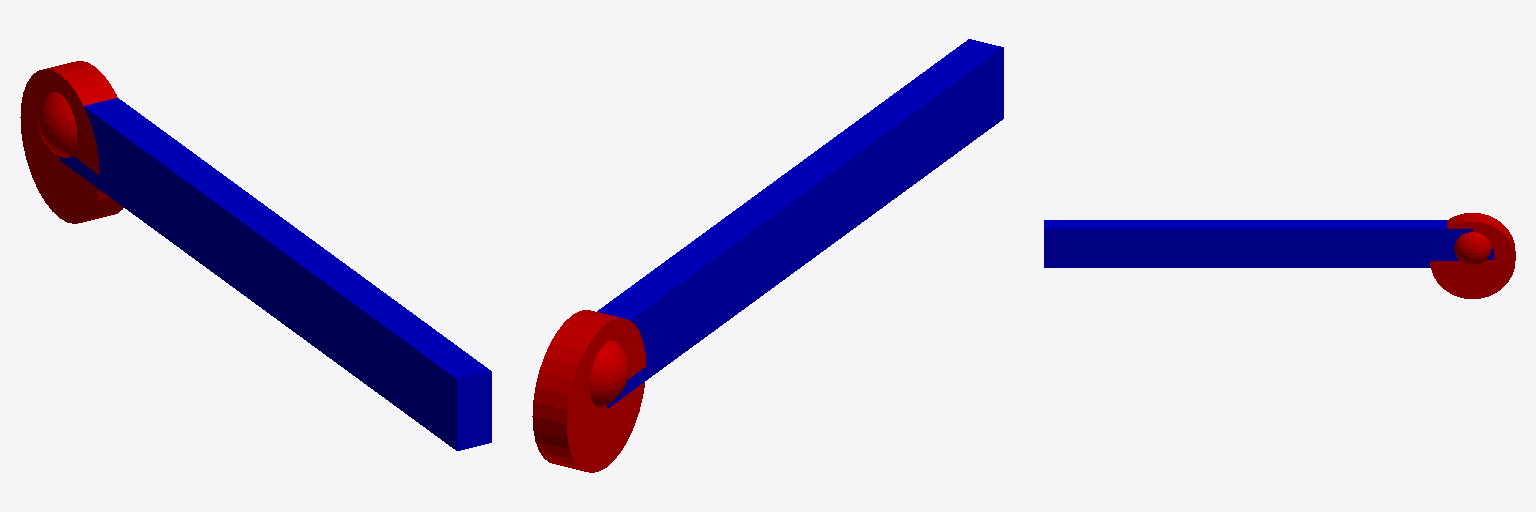
URDF robot description (TwoLinkStruct6784629794):
<?xml version="1.0"?>
<robot  name="TwoLinkStruct6784629794" >
 <material  name="blue" >
  <color  rgba="0 0 0.8 1.0" />
 </material>
 <material  name="red" >
  <color  rgba="0.8 0 0 1.0" />
 </material>
 <link  name="base_link" >
  <visual >
   <origin  rpy="0 1.5707 0"  xyz="0 0 0" />
   <material  name="red" />
   <geometry >
    <cylinder  length="0.05"  radius="0.1" />
   </geometry>
  </visual>
 </link>
 <joint  type="revolute"  name="joint1" >
  <parent  link="base_link" />
  <child  link="link1" />
  <origin  xyz="0 0 0"  rpy="0 0 0" />
  <axis  xyz="1 0 0" />
 </joint>
 <link  name="link1" >
  <inertial >
   <origin  rpy="0 0 0"  xyz="0 0 0.015086658787629968" />
   <mass  value="0.10955919508594006" />
   <inertia  ixy="0.0"  iyy="4.564966461914169e-05"  izz="3.113698886510477e-05"  ixz="0.0"  ixx="3.113698886510477e-05"  iyz="0.0" />
  </inertial>
  <visual >
   <origin  rpy="0 0 0"  xyz="0 0 0.015086658787629968" />
   <material  name="blue" />
   <geometry >
    <box  size="0.05 0.1 0.030173317575259935" />
   </geometry>
  </visual>
 </link>
 <joint  type="fixed"  name="joint-joint-1" >
  <parent  link="link1" />
  <child  link="joint-link-1" />
  <origin  xyz="0 0 0.030173317575259935"  rpy="1.5707 0 0" />
  <axis  xyz="1 0 0" />
 </joint>
 <link  name="joint-link-1" >
  <inertial >
   <origin  rpy="0 0 0"  xyz="0 0 0" />
   <mass  value="0.001" />
   <inertia  ixy="0"  iyy="0"  izz="0"  ixz="0"  ixx="0"  iyz="0" />
  </inertial>
  <visual >
   <origin  rpy="0 0 0"  xyz="0 0 0" />
   <material  name="red" />
   <geometry >
    <sphere  radius="0.05" />
   </geometry>
  </visual>
 </link>
 <joint  type="revolute"  name="joint2" >
  <parent  link="link1" />
  <child  link="link2" />
  <origin  xyz="0 0 0.030173317575259935"  rpy="1.5707 0 0" />
  <axis  xyz="1 0 0" />
 </joint>
 <link  name="link2" >
  <inertial >
   <origin  rpy="0 0 0"  xyz="0 0 0.5" />
   <mass  value="3.872572183609009" />
   <inertia  ixy="0.0"  iyy="4.564966461914169e-05"  izz="0.009152757756137907"  ixz="0.0"  ixx="0.009152757756137907"  iyz="0.0" />
  </inertial>
  <visual >
   <origin  rpy="0 0 0"  xyz="0 0 0.5" />
   <material  name="blue" />
   <geometry >
    <box  size="0.05 0.1 1.0" />
   </geometry>
  </visual>
 </link>
 <joint  type="fixed"  name="eef_joint" >
  <parent  link="link2" />
  <child  link="eef" />
  <origin  xyz="0 0 1.0"  rpy="0 0 0" />
 </joint>
 <link  name="eef" >
  <inertial >
   <origin  rpy="0 0 0"  xyz="0 0 0" />
   <mass  value="1" />
   <inertia  ixy="0"  iyy="0"  izz="0"  ixz="0"  ixx="0"  iyz="0" />
  </inertial>
 </link>
 <transmission  name="motor1" >
  <type  xmltext="SimpleTransmission" >
   SimpleTransmission
  </type>
  <actuator  name="motor1" >
   <mechanicalreduction  xmltext="1" >
    1
   </mechanicalreduction>
  </actuator>
  <joint  name="joint1" />
 </transmission>
 <transmission  name="motor2" >
  <type  xmltext="SimpleTransmission" >
   SimpleTransmission
  </type>
  <actuator  name="motor2" >
   <mechanicalreduction  xmltext="1" >
    1
   </mechanicalreduction>
  </actuator>
  <joint  name="joint2" />
 </transmission>
</robot>

<!-- {'carti': array([-0.1 ,  0.14,  0.85]), 'cartd': array([-0.1 ,  0.32,  1.29]), 'tau_mu': 0.0, 'b0': 0.5194343950569463, 'Km': 4.147315269706106, 'k_velocity': 100.0, 'tau_max_m': 5.0, 'omega_max_m': 9000.0, 'gear_ratio': 25.0, 'Kp': 53.91621629115499, 'Kd': 67.35845683744994, 'm_m': 0.001, 'l1': 0.030173317575259935, 'l2': 1.0, 'k1': 25141.51707478045, 'k2': 358036847.3284923, 'k3': 379000000.0}-->

--- Render facts (derived) ---
3 views of the same robot in one strip: view 1: azimuth 30°, elevation 25°; view 2: azimuth 150°, elevation 25°; view 3: azimuth 270°, elevation 25° (orthographic).
Model TwoLinkStruct6784629794 with 5 links and 4 joints (2 revolute, 2 fixed), rooted at base_link, posed every joint at zero.
Links seen in each view (by area): view 1: link2, base_link, joint-link-1; view 2: link2, base_link, joint-link-1; view 3: link2, base_link, joint-link-1.
Link boxes in pixels (left/top/right/bottom): link2: left=60, top=98, right=491, bottom=450; base_link: left=20, top=61, right=123, bottom=223; joint-link-1: left=38, top=91, right=76, bottom=157; link2: left=597, top=39, right=1003, bottom=408; base_link: left=532, top=310, right=645, bottom=472; joint-link-1: left=589, top=340, right=628, bottom=406; link2: left=1044, top=220, right=1472, bottom=267; base_link: left=1430, top=213, right=1515, bottom=298; joint-link-1: left=1454, top=232, right=1490, bottom=265.
Size in the robot's own frame: 0.1 by 1.1 by 0.2 metres.
Geometry: primitives only (box / cylinder / sphere), no mesh files.
